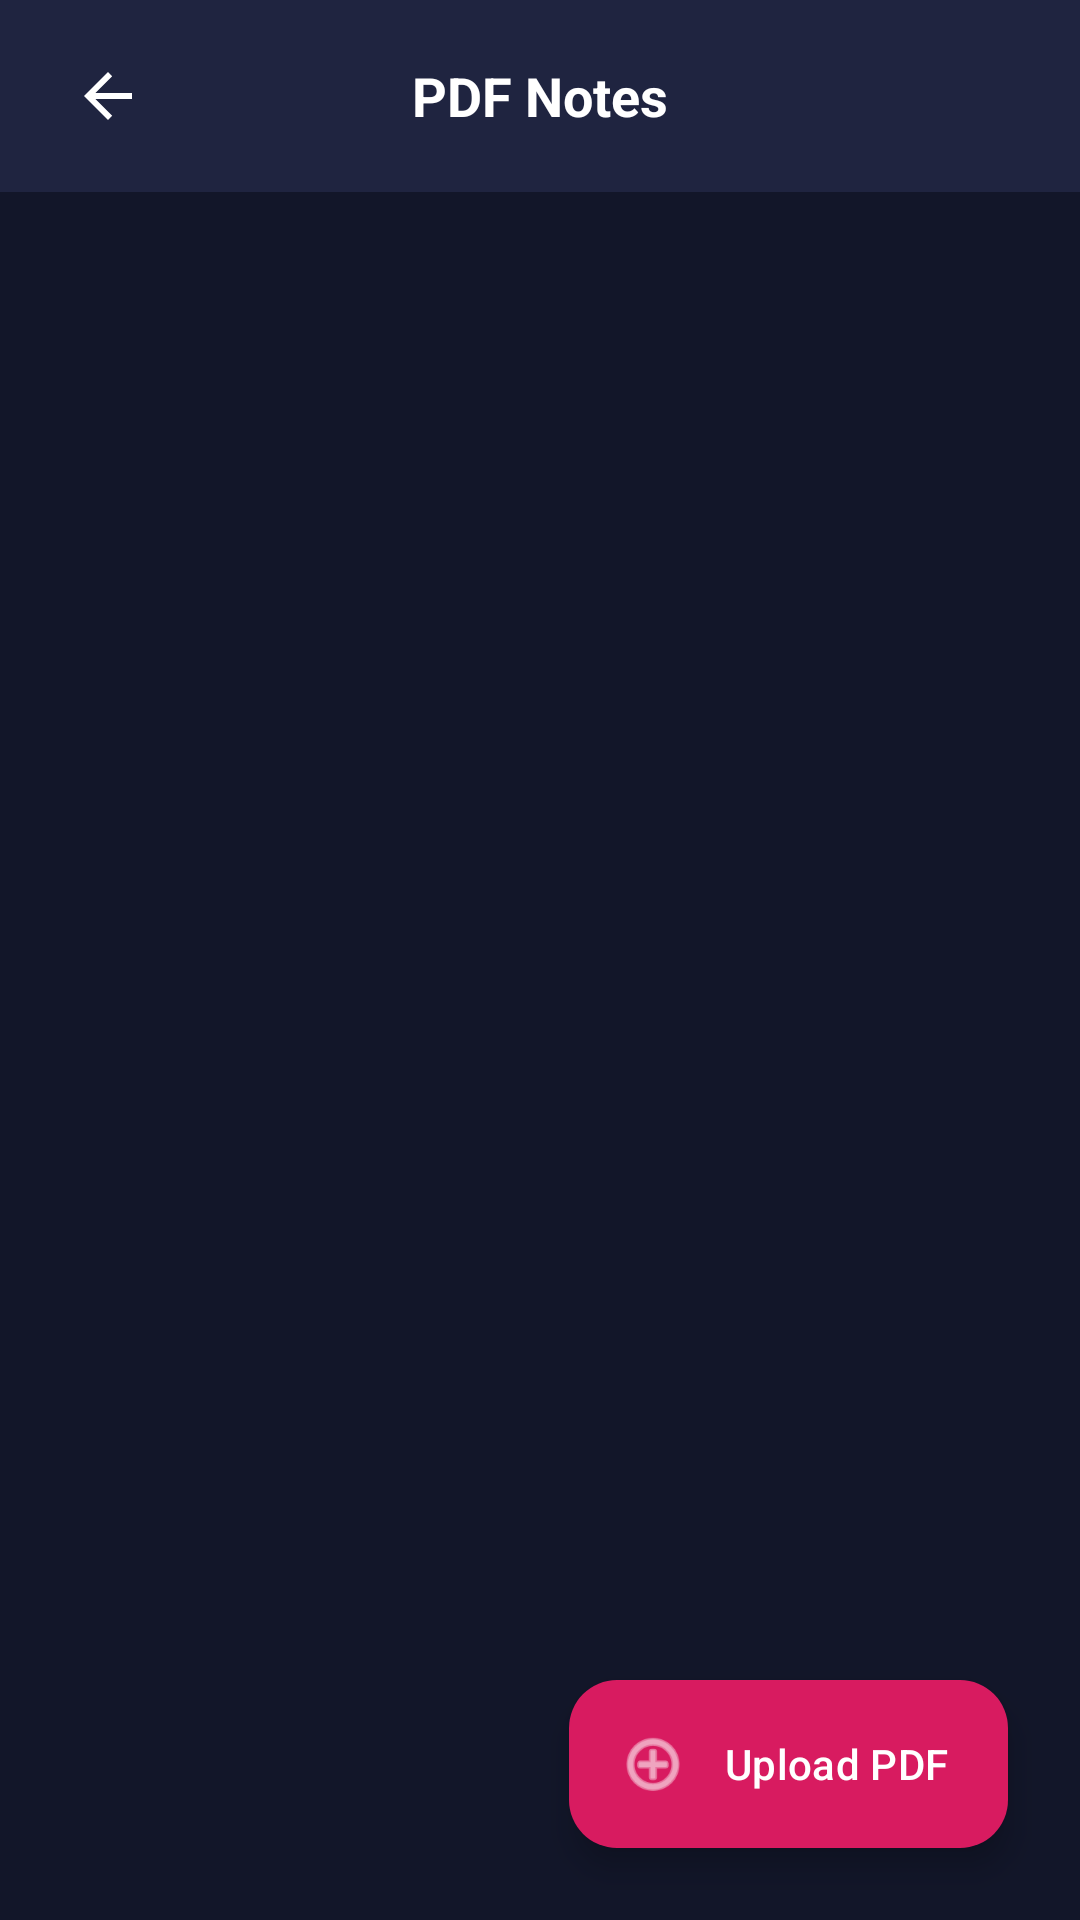

Named icons in this screenshot (1080×1920) and their bounding boxes, (x1=x1, y1=y1, x2=x2, y2=y2):
ab back: (x1=84, y1=72, x2=132, y2=120)
